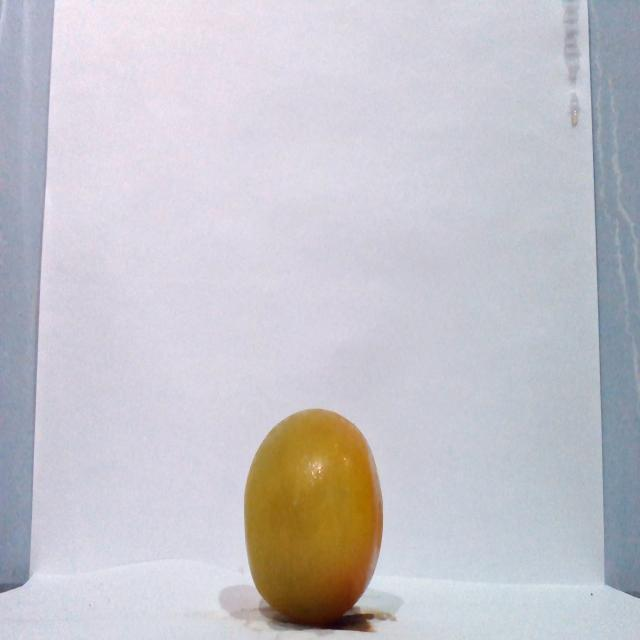Red: (242, 406, 384, 625)
